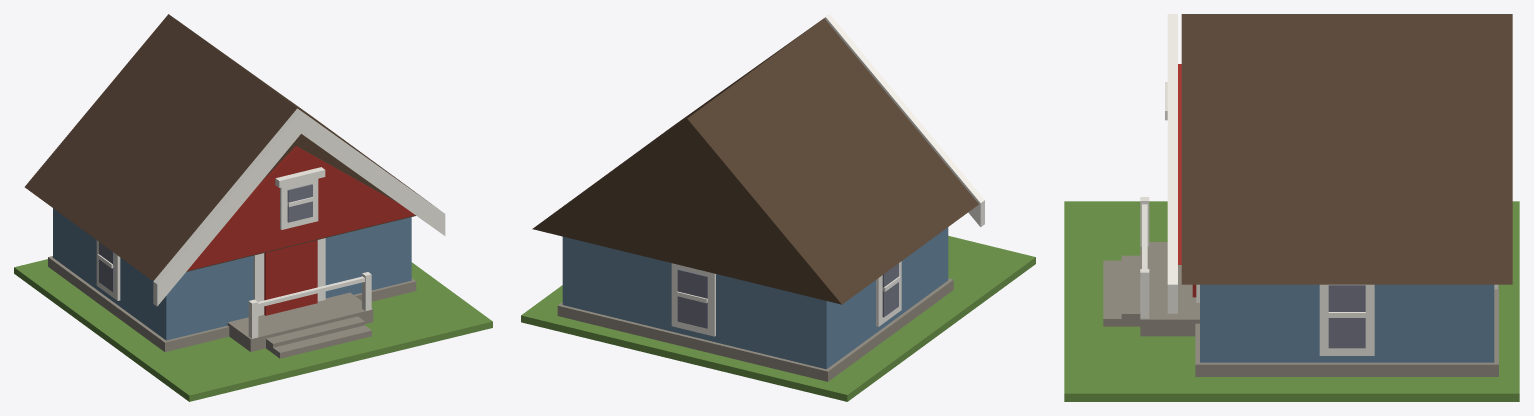
The model's file is house-1x1-1f-victorian-a.glb.
The picture shows the model from 3 angles, left to right: view 1: azimuth 30°, elevation 25°; view 2: azimuth 150°, elevation 25°; view 3: azimuth 270°, elevation 25°; orthographic projection. The views are drawn at different scales.
Parts seen in each view (by area): view 1: house-1x1-1f-victorian-a; view 2: house-1x1-1f-victorian-a; view 3: house-1x1-1f-victorian-a.
Part boxes in pixels (left/top/right/bottom): house-1x1-1f-victorian-a: left=14, top=14, right=492, bottom=401; house-1x1-1f-victorian-a: left=521, top=14, right=1035, bottom=401; house-1x1-1f-victorian-a: left=1064, top=14, right=1519, bottom=401.
Bounding box in the file's own units: 0.99 × 0.7 × 0.99.
1 material, 1 textured.
